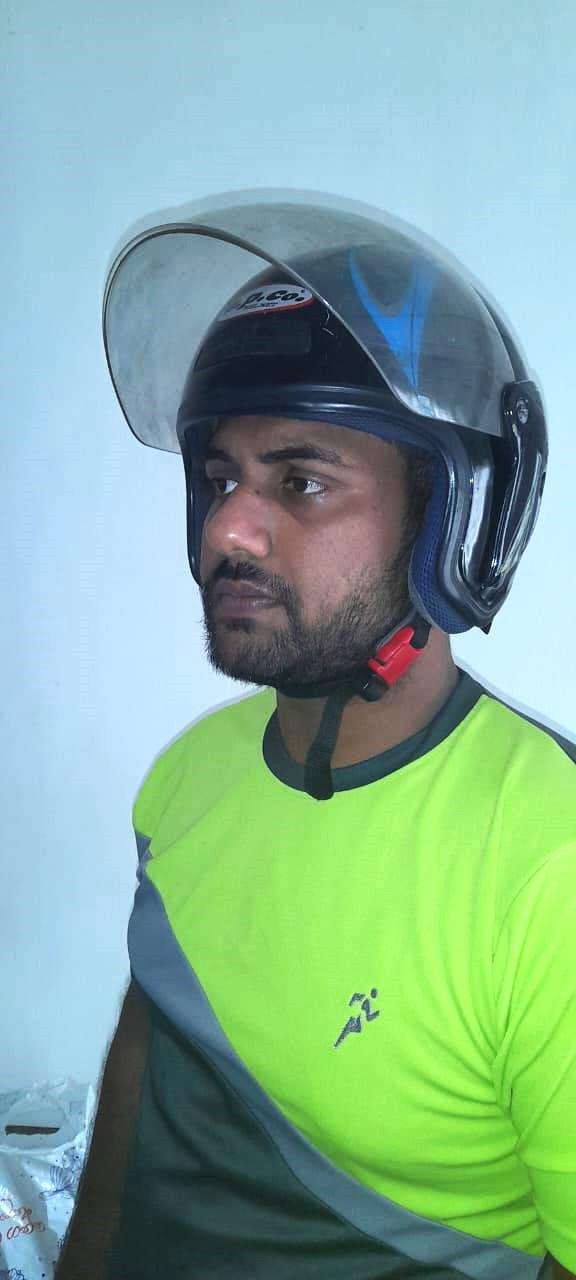helmet: (96, 184, 553, 639)
